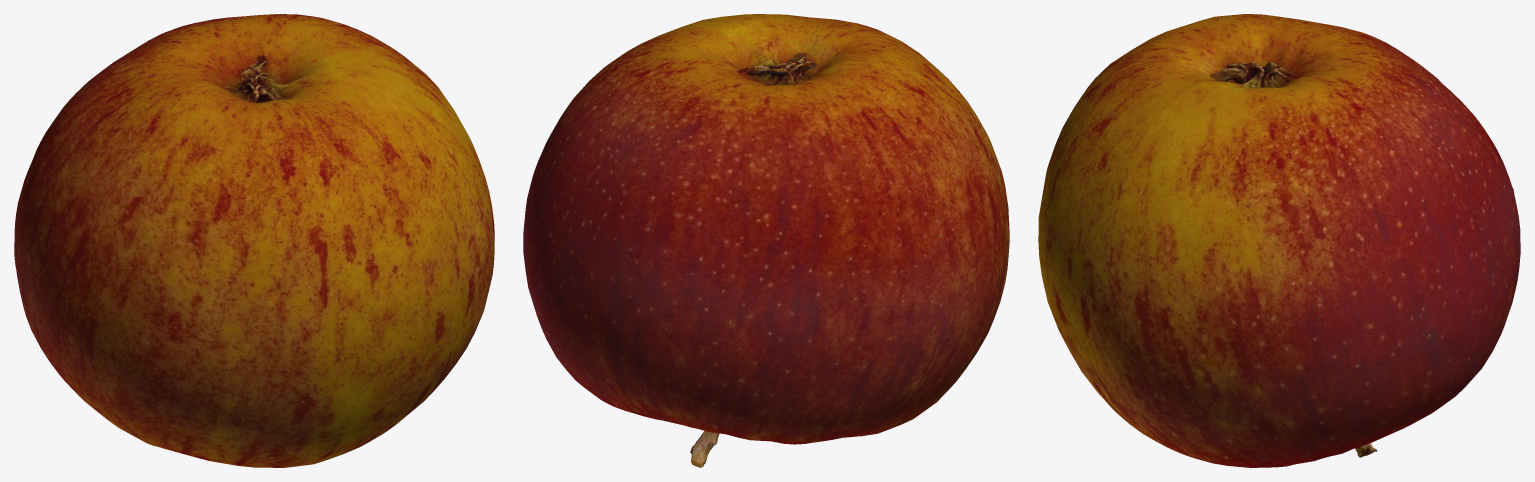
The model's file is apple.glb.
3 renders of one model, left to right at view 1: azimuth 30°, elevation 25°; view 2: azimuth 150°, elevation 25°; view 3: azimuth 270°, elevation 25°, orthographic.
Visible parts, largest first — view 1: food_apple_01; view 2: food_apple_01; view 3: food_apple_01.
Part boxes in pixels (x1=…): food_apple_01: x1=14, y1=14, x2=494, y2=467; food_apple_01: x1=523, y1=14, x2=1009, y2=467; food_apple_01: x1=1038, y1=14, x2=1520, y2=467.
Size of the model in its own units: 0.0976 by 0.0852 by 0.0959.
1 material, 1 textured.
